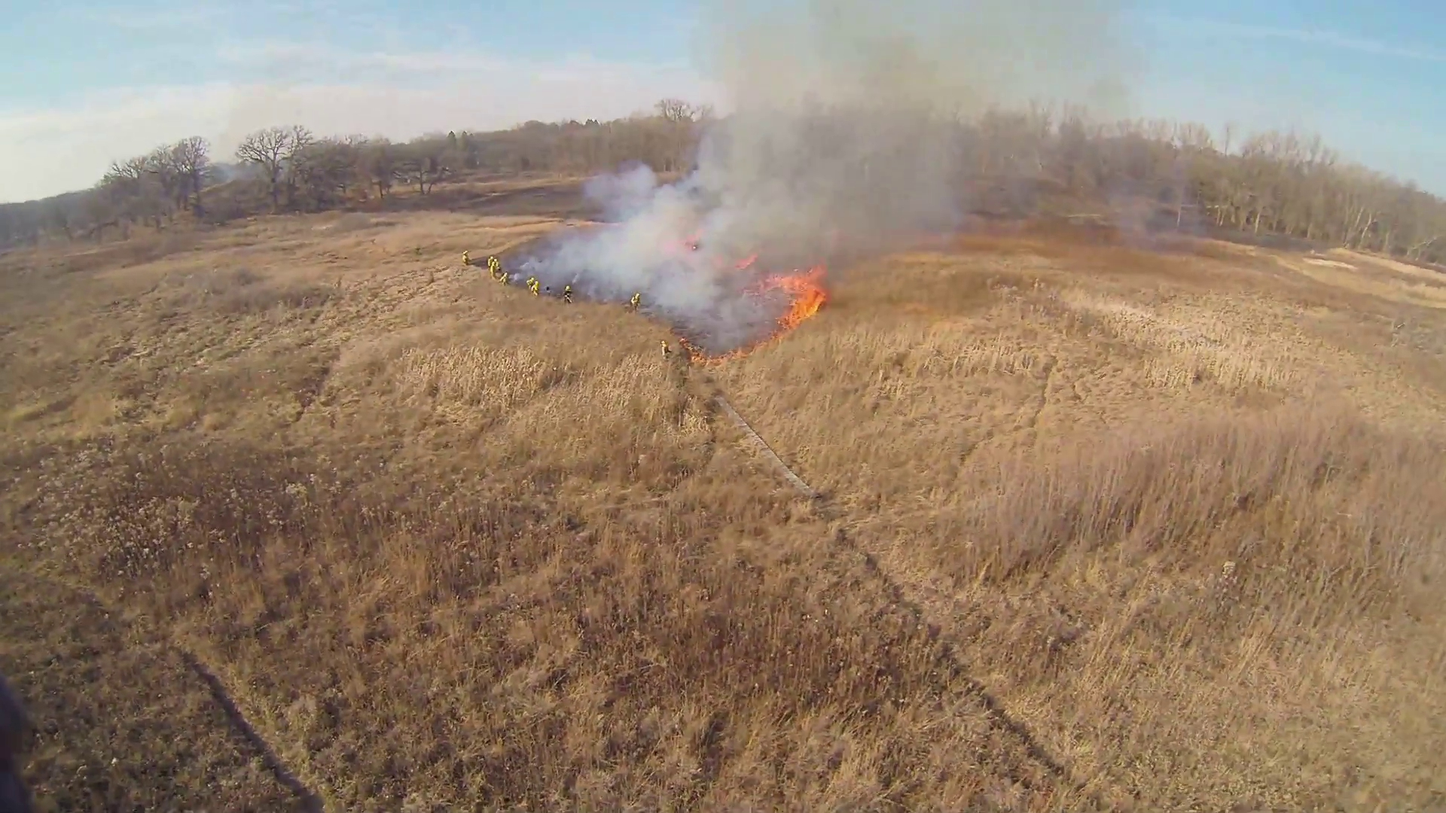forest_fire: (760, 265, 827, 336)
